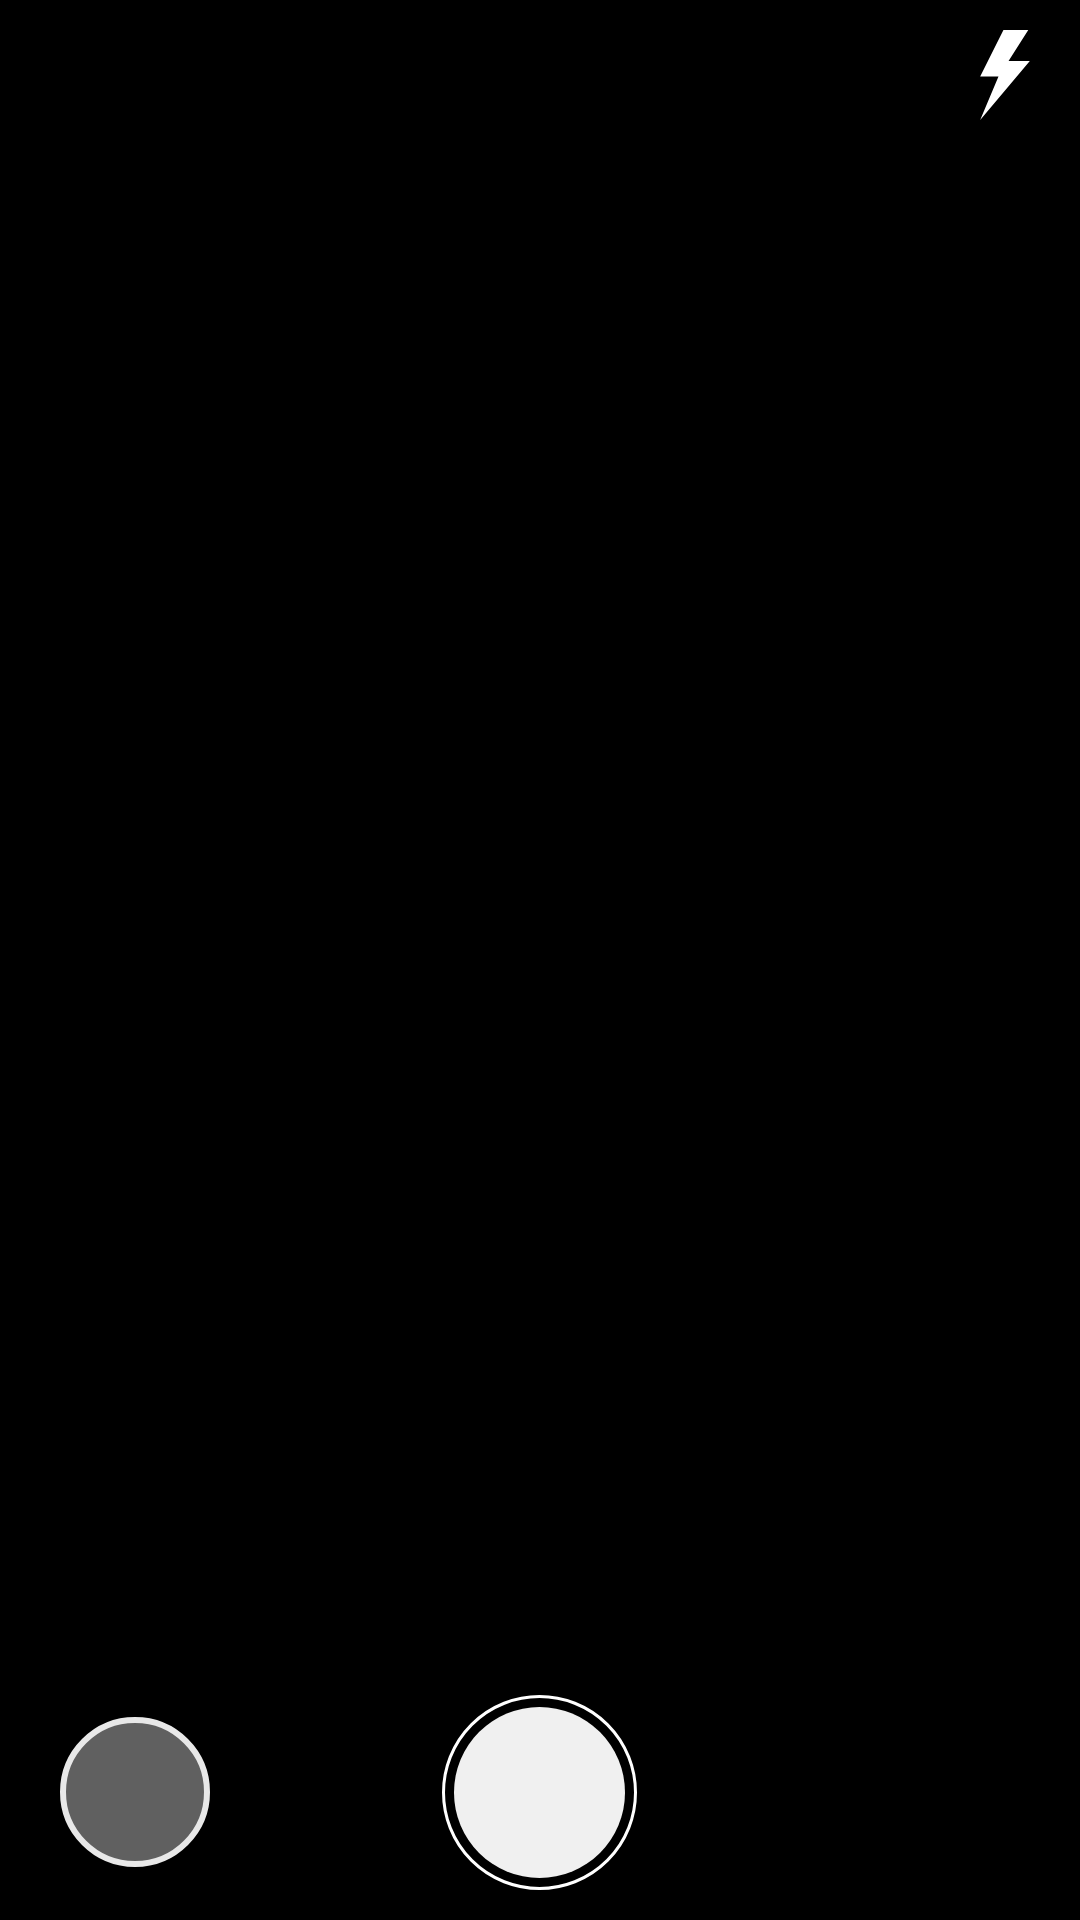

Locate icon controls on the screen. Image size 1080px×1920px, boxes as (x1, y1, x2, y2).
click: (442, 1695, 637, 1890)
flash: (980, 30, 1030, 120)
